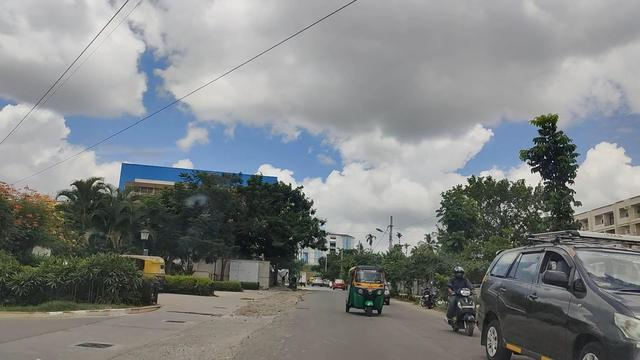RoadDamages: (196, 314, 275, 360), (248, 290, 328, 319)
